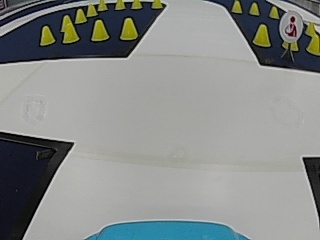cone: (62, 17, 79, 42), (253, 24, 271, 47), (119, 17, 137, 40), (91, 19, 109, 41), (39, 25, 56, 45), (306, 30, 319, 54), (75, 8, 87, 23), (249, 2, 260, 15), (231, 1, 242, 13), (268, 6, 279, 18), (87, 4, 97, 16), (131, 0, 142, 10), (151, 0, 162, 10), (114, 0, 125, 10), (97, 0, 107, 11)
patient: (280, 12, 301, 40)
